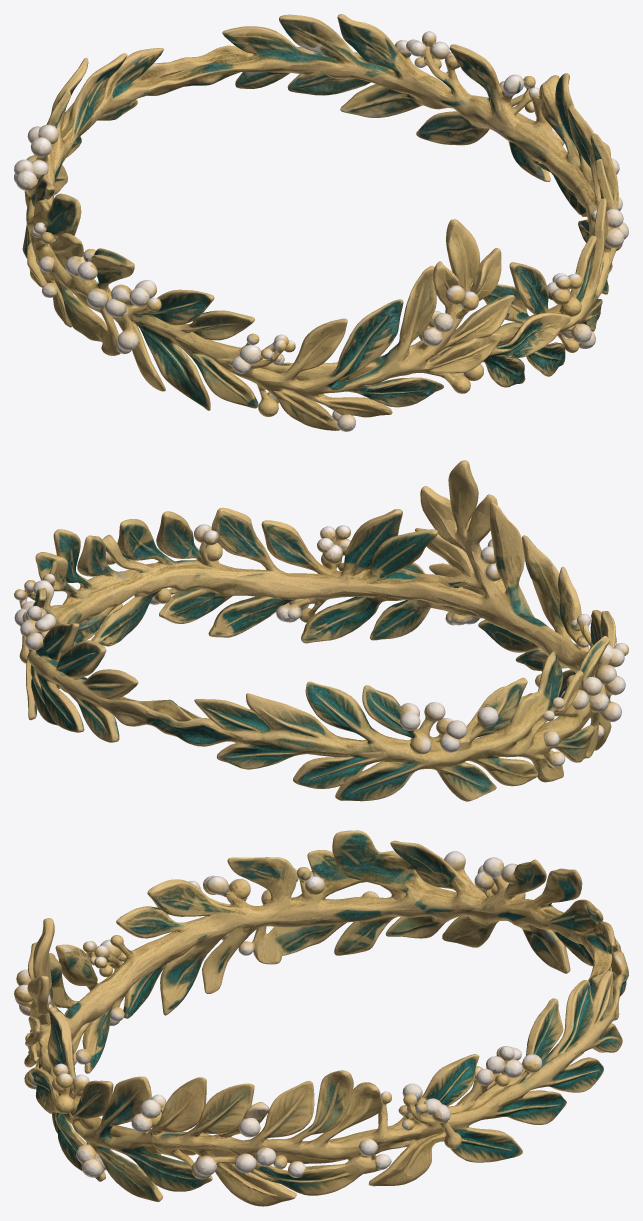
File: golden-laurel.glb
3 views of the same model, one above another, from view 1: azimuth 30°, elevation 25°; view 2: azimuth 150°, elevation 25°; view 3: azimuth 270°, elevation 25° (orthographic).
Parts seen in each view (by area): view 1: Mesh_0; view 2: Mesh_0; view 3: Mesh_0.
Part boxes in pixels (<box>): Mesh_0: <box>14,14,628,431</box>; Mesh_0: <box>14,460,628,801</box>; Mesh_0: <box>14,830,628,1206</box>.
Bounding box in the file's own units: 24.08 × 8.77 × 24.14.
Materials: 1 (1 with a texture image).
